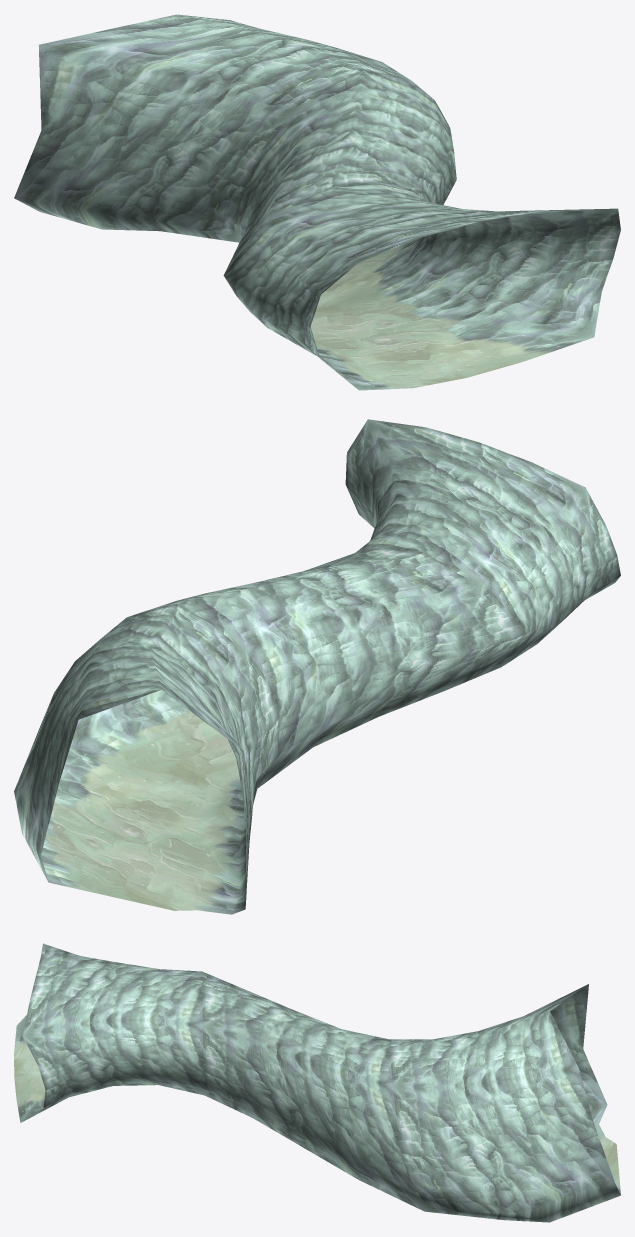
File: TROLLHOLE02_PS-MAINCAVE09.fbx
The picture shows the model from 3 angles, top to bottom: view 1: azimuth 30°, elevation 25°; view 2: azimuth 150°, elevation 25°; view 3: azimuth 270°, elevation 25°; orthographic projection. The views are drawn at different scales.
Parts seen in each view (by area): view 1: TROLLHOLE02_PS-MAINCAVE09; view 2: TROLLHOLE02_PS-MAINCAVE09; view 3: TROLLHOLE02_PS-MAINCAVE09.
Boxes of the visible parts, bbox=[...] form: TROLLHOLE02_PS-MAINCAVE09: bbox=[14, 14, 620, 390]; TROLLHOLE02_PS-MAINCAVE09: bbox=[14, 419, 620, 914]; TROLLHOLE02_PS-MAINCAVE09: bbox=[14, 943, 620, 1222].
Size of the model in its own units: 137580 by 81649 by 247350.
2 materials, 2 textured.
